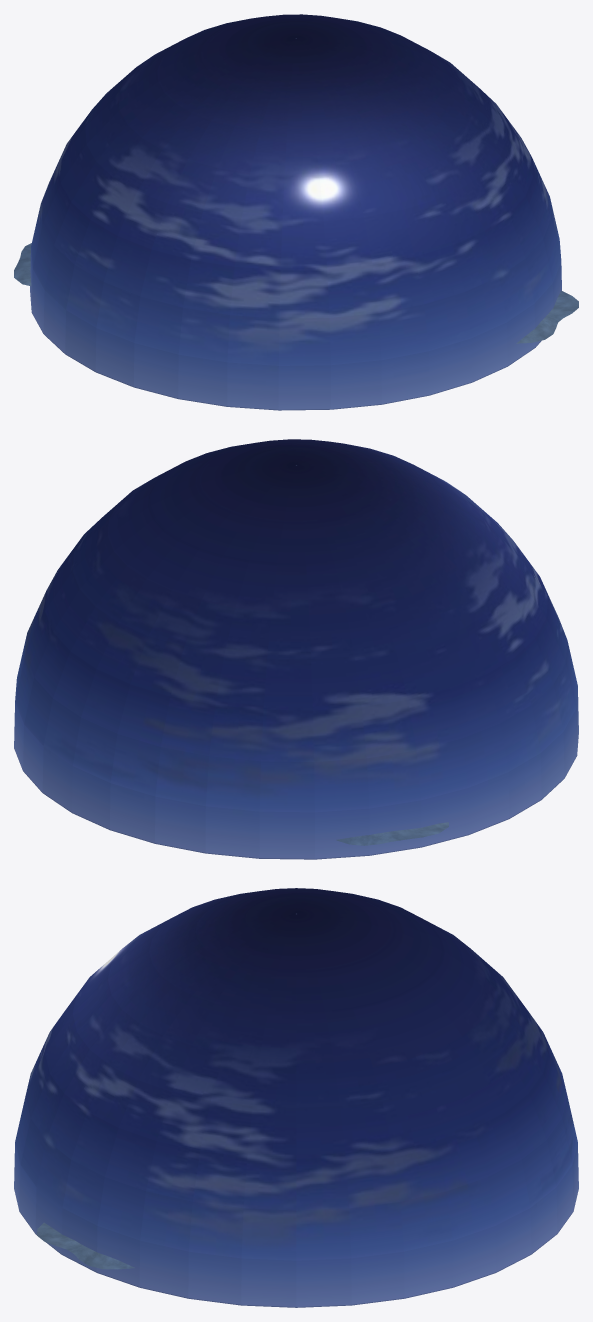
File: lugar-novosibirsk-ciudad.glb
The picture shows the model from 3 angles, top to bottom: view 1: azimuth 30°, elevation 25°; view 2: azimuth 150°, elevation 25°; view 3: azimuth 270°, elevation 25°; orthographic projection. The views are drawn at different scales.
Parts seen in each view (by area): view 1: planoC, vertT; view 2: planoC, vertT; view 3: planoC, vertT.
Boxes of the visible parts, box(x1,y1,x2,y2) form: planoC: box(30, 14, 561, 410); vertT: box(14, 243, 578, 343); planoC: box(14, 439, 578, 859); vertT: box(336, 822, 448, 845); planoC: box(14, 888, 578, 1307); vertT: box(37, 1222, 134, 1269).
Size of the model in its own units: 6584 by 3530 by 6584.
Materials: 14 (9 with a texture image).
